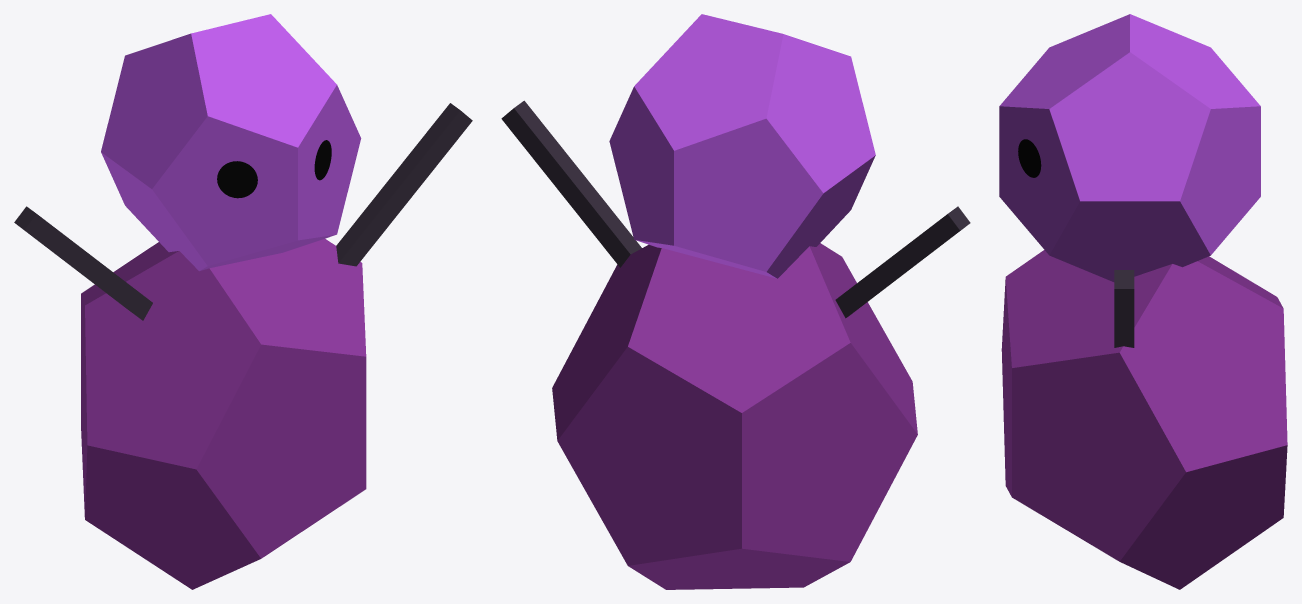
Rendered from blubble_purple.glb.
3 renders of one model, left to right at view 1: azimuth 30°, elevation 25°; view 2: azimuth 150°, elevation 25°; view 3: azimuth 270°, elevation 25°, orthographic. The views are drawn at different scales.
Visible parts, largest first — view 1: Dodecahedron (×2), Box (×2), Eye; view 2: Dodecahedron (×2), Box (×2); view 3: Dodecahedron (×2), Box, Eye.
Boxes of the visible parts, x1=… form: Dodecahedron (×2): x1=81, y1=14, x2=366, y2=589; Box (×2): x1=14, y1=103, x2=472, y2=320; Eye: x1=217, y1=161, x2=257, y2=198; Dodecahedron (×2): x1=552, y1=14, x2=917, y2=589; Box (×2): x1=501, y1=100, x2=970, y2=318; Dodecahedron (×2): x1=999, y1=14, x2=1287, y2=589; Box: x1=1114, y1=270, x2=1134, y2=347; Eye: x1=1018, y1=139, x2=1041, y2=177.
Bounding box in the file's own units: 0.2529 × 0.2945 × 0.1441.
